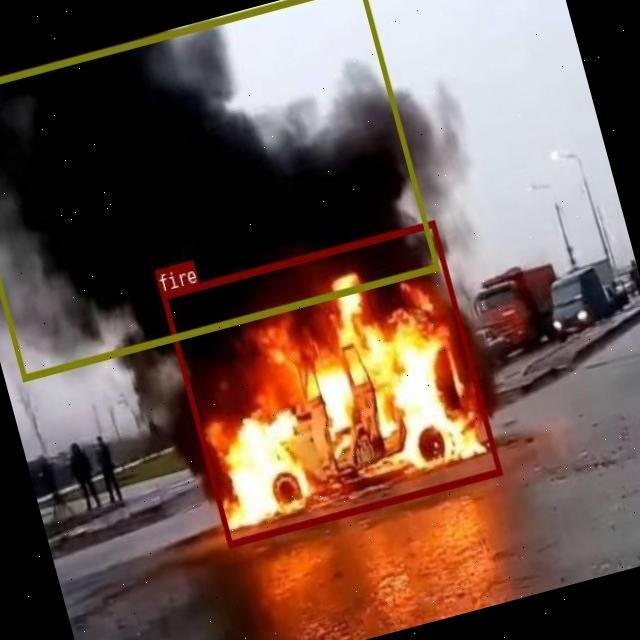fire: (160, 220, 502, 546)
smoke: (0, 0, 439, 380)
